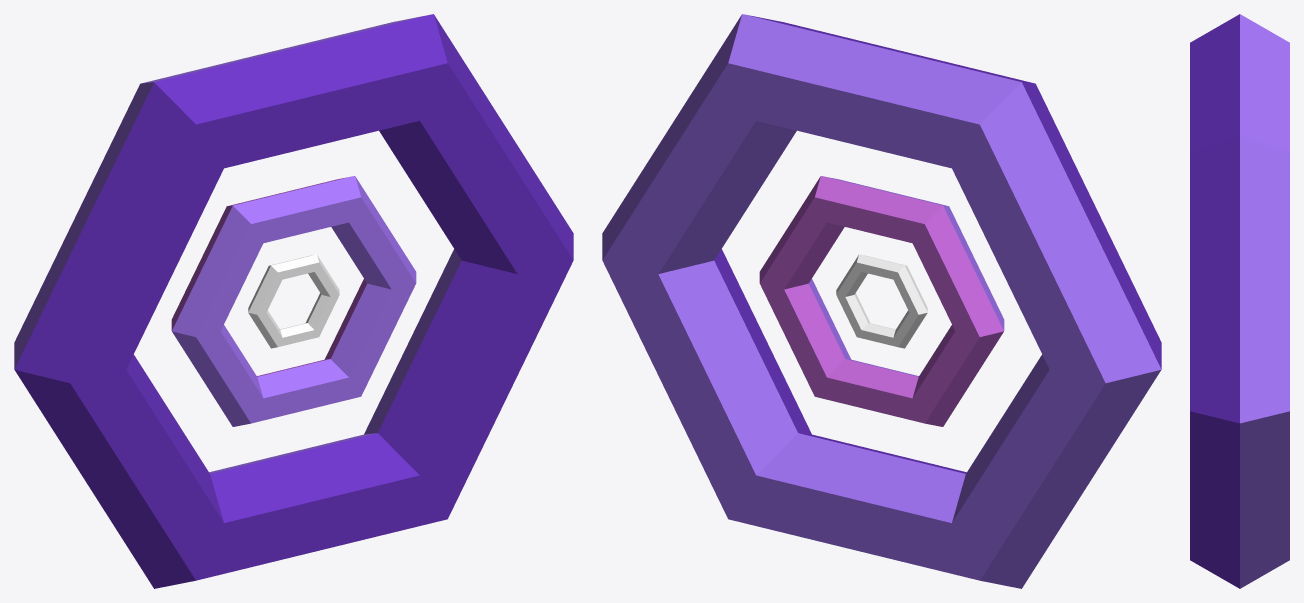
Rendered from Pocket Portal.fbx.
3 views of the same model, side by side, from view 1: azimuth 30°, elevation 25°; view 2: azimuth 150°, elevation 25°; view 3: azimuth 270°, elevation 25° (orthographic). The views are drawn at different scales.
Parts seen in each view (by area): view 1: Torus, Torus.001, Torus.002; view 2: Torus, Torus.001, Torus.002; view 3: Torus.
Boxes of the visible parts, x1=… form: Torus: x1=14, y1=14, x2=573, y2=588; Torus.001: x1=171, y1=176, x2=416, y2=426; Torus.002: x1=248, y1=254, x2=339, y2=348; Torus: x1=602, y1=14, x2=1161, y2=588; Torus.001: x1=759, y1=176, x2=1004, y2=426; Torus.002: x1=836, y1=254, x2=927, y2=348; Torus: x1=1190, y1=14, x2=1289, y2=588.
Bounding box in the file's own units: 250 × 217 × 43.3.
